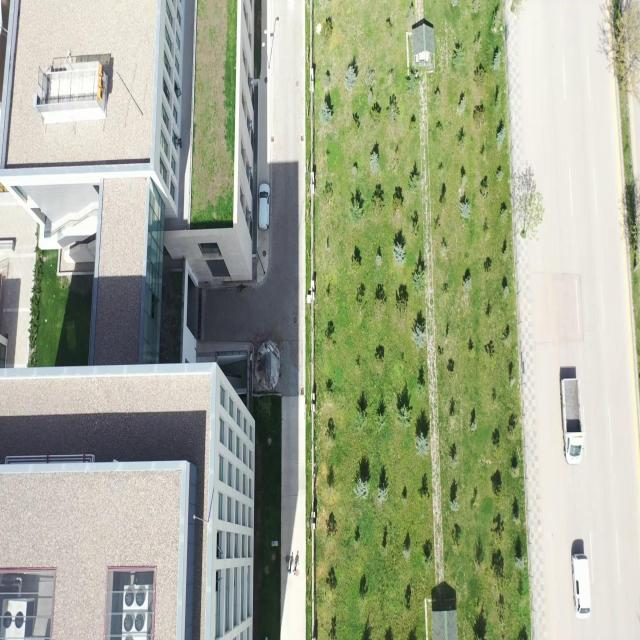p3rson: (287, 566, 292, 576), (292, 565, 296, 575)
